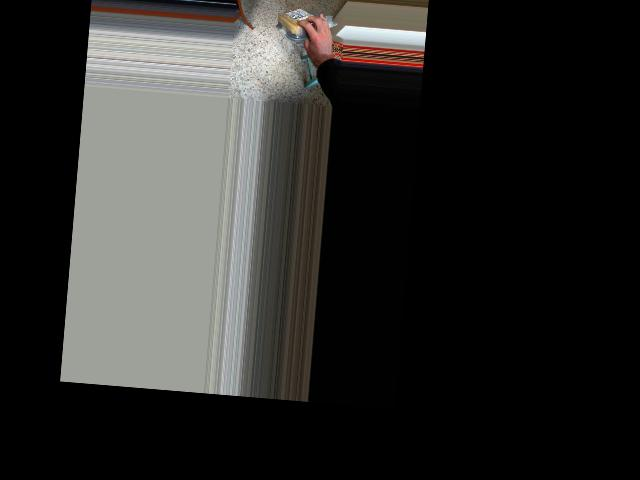cheese: (274, 5, 321, 38)
